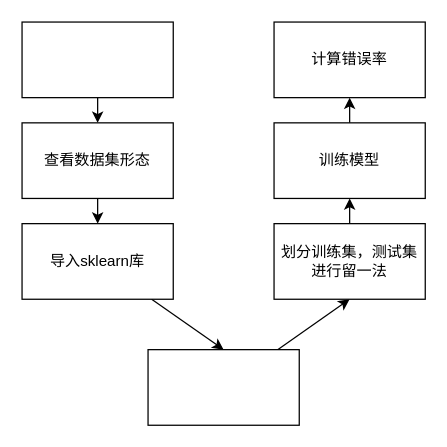
Image size: 447x447. Some labels were removed from this diagram. Here are the shapes that lost their labels. From the top down, the centre of each, then its label:
At pixel 97 59: "导入数据集".
At pixel 223 386: "进行十折交叉验证，计算错误率".
